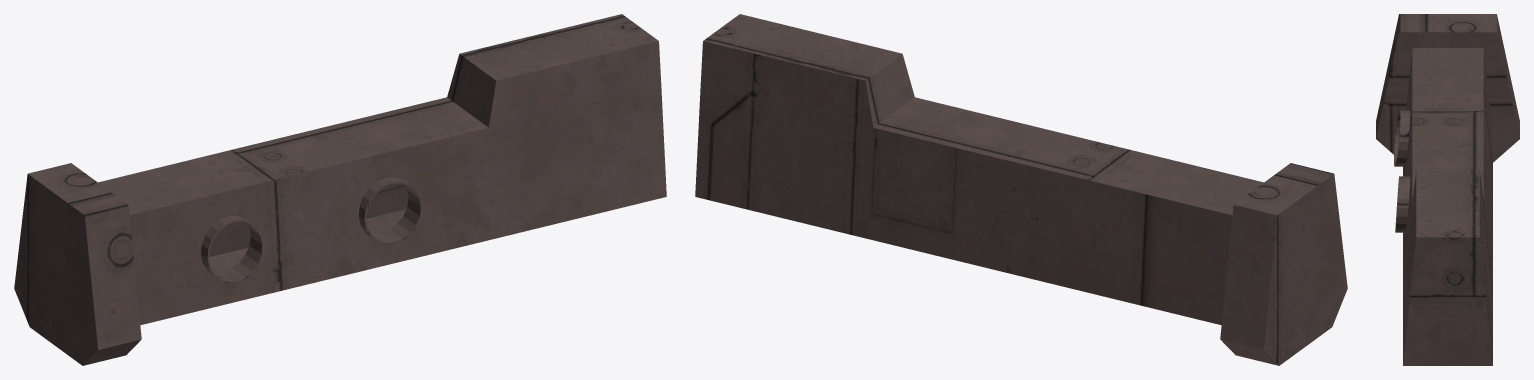
The model's file is MachinePart02.fbx.
3 renders of one model, left to right at view 1: azimuth 30°, elevation 25°; view 2: azimuth 150°, elevation 25°; view 3: azimuth 270°, elevation 25°, orthographic. The views are drawn at different scales.
Parts seen in each view (by area): view 1: SM_ENV_STRUCT_ScrapYard_MachinePart_02.mo; view 2: SM_ENV_STRUCT_ScrapYard_MachinePart_02.mo; view 3: SM_ENV_STRUCT_ScrapYard_MachinePart_02.mo.
Boxes of the visible parts, x1=… form: SM_ENV_STRUCT_ScrapYard_MachinePart_02.mo: x1=14, y1=14, x2=666, y2=365; SM_ENV_STRUCT_ScrapYard_MachinePart_02.mo: x1=695, y1=14, x2=1347, y2=365; SM_ENV_STRUCT_ScrapYard_MachinePart_02.mo: x1=1376, y1=14, x2=1519, y2=365.
Size of the model in its own units: 2802 by 809 by 698.
Materials: 1 (1 with a texture image).
